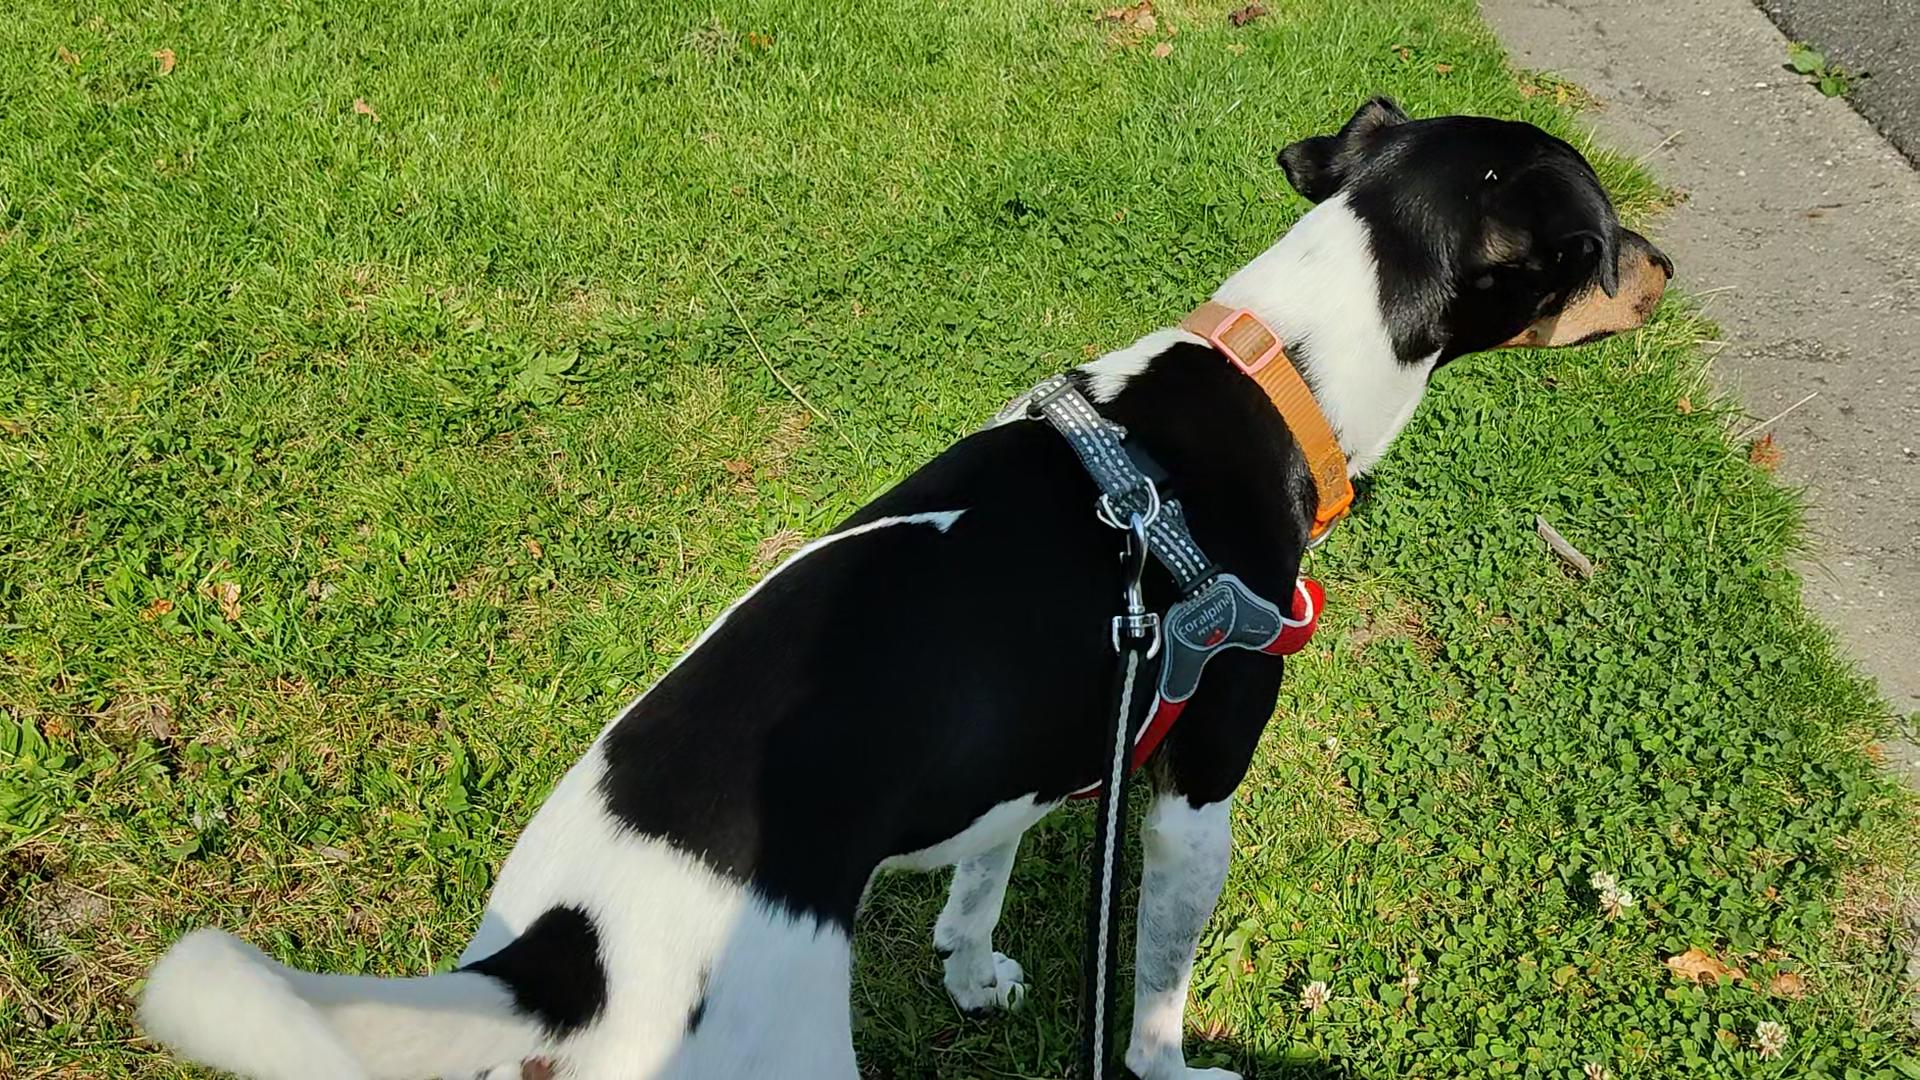Dog: (132, 69, 1695, 1079)
